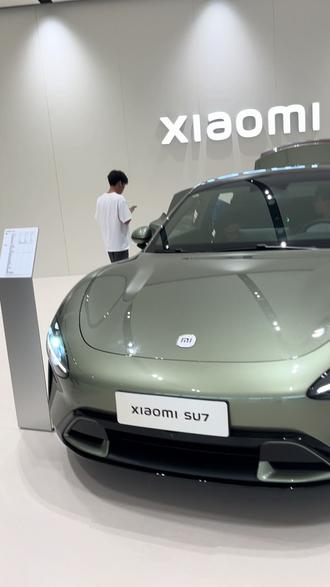su7: (45, 159, 330, 490)
